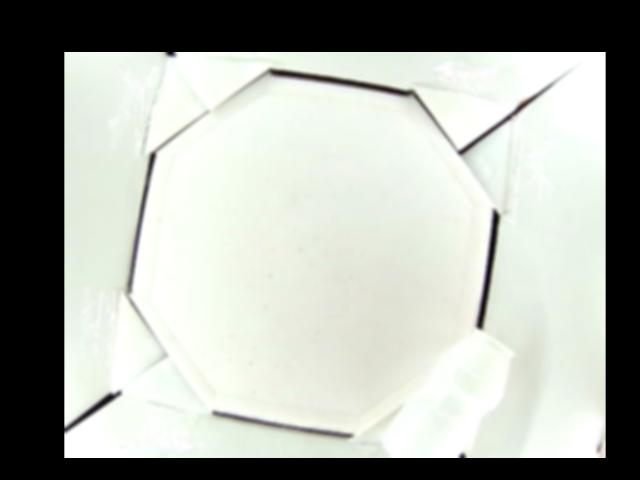Bottle: (378, 328, 517, 457)
